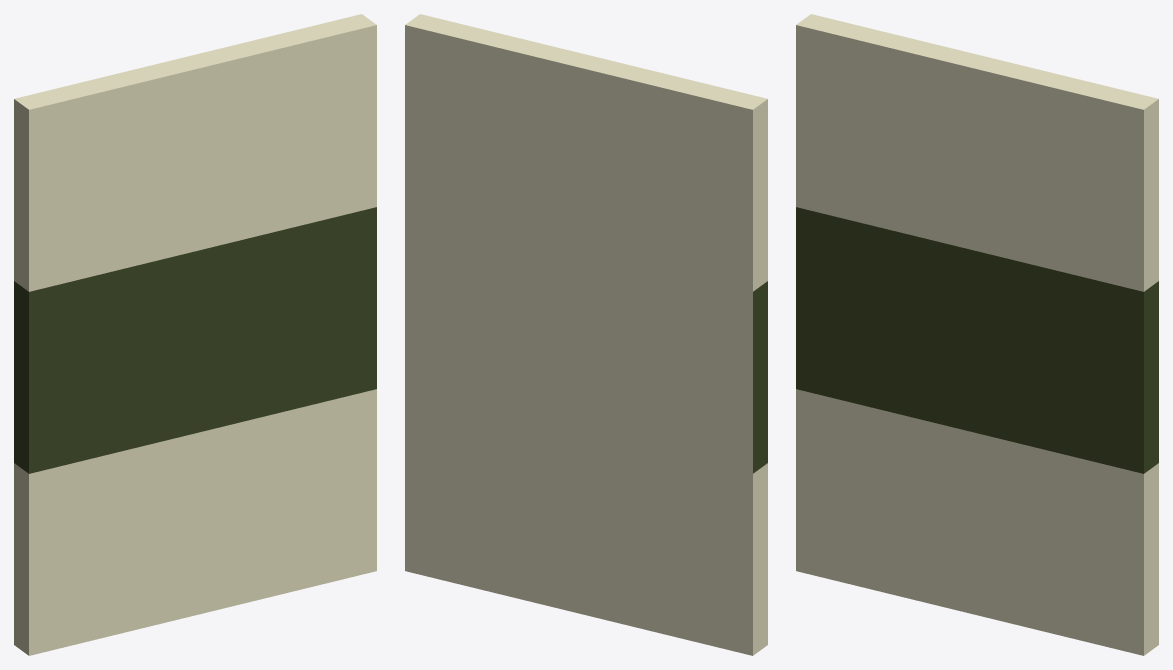
The model's file is InteriorWall_Plain_Str_ExportPrep.gltf.
The picture shows the model from 3 angles, left to right: view 1: azimuth 30°, elevation 25°; view 2: azimuth 150°, elevation 25°; view 3: azimuth 330°, elevation 25°; orthographic projection.
Parts seen in each view (by area): view 1: InteriorWall_Plain_Str; view 2: InteriorWall_Plain_Str; view 3: InteriorWall_Plain_Str.
Part boxes in pixels (x1,y1,x2,y2): InteriorWall_Plain_Str: (14, 14, 376, 655); InteriorWall_Plain_Str: (405, 14, 767, 655); InteriorWall_Plain_Str: (796, 14, 1158, 655).
Size of the model in its own units: 2 by 3 by 0.15.
